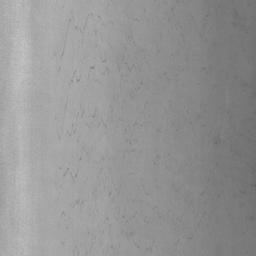Silk spot: (63, 168, 77, 182), (54, 43, 65, 59), (71, 199, 84, 208), (214, 134, 224, 144)
